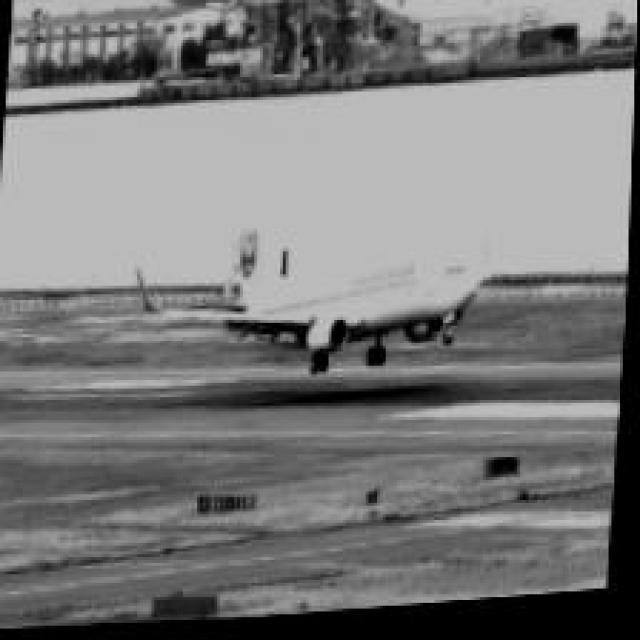aeroplane: (122, 200, 508, 392)
